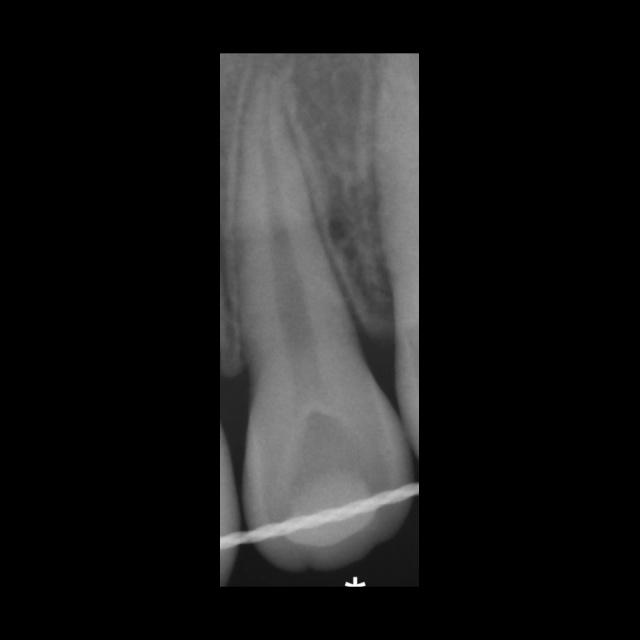tooth: (235, 66, 418, 576)
